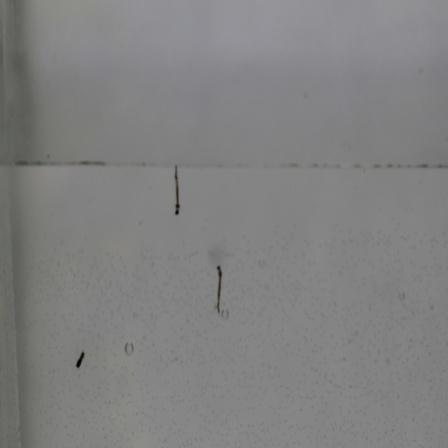Jentik-Nyamuk: (211, 260, 227, 318), (169, 163, 184, 218), (72, 349, 89, 372)
